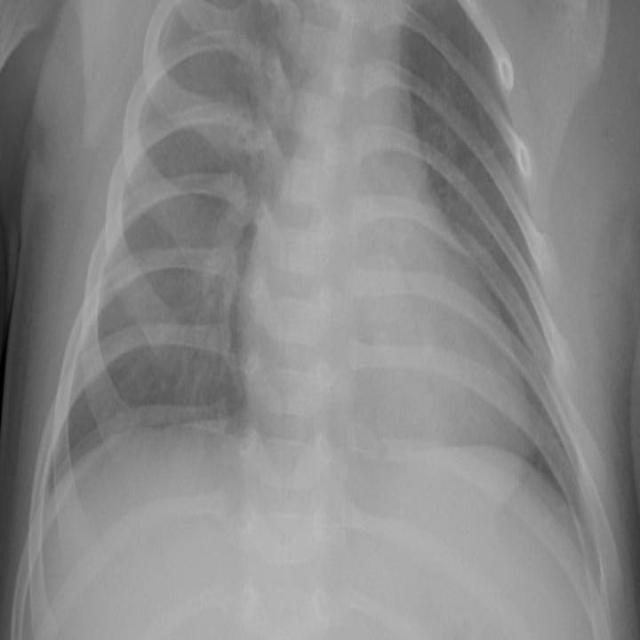low-pneumonia: (223, 2, 306, 225), (176, 219, 252, 384)
